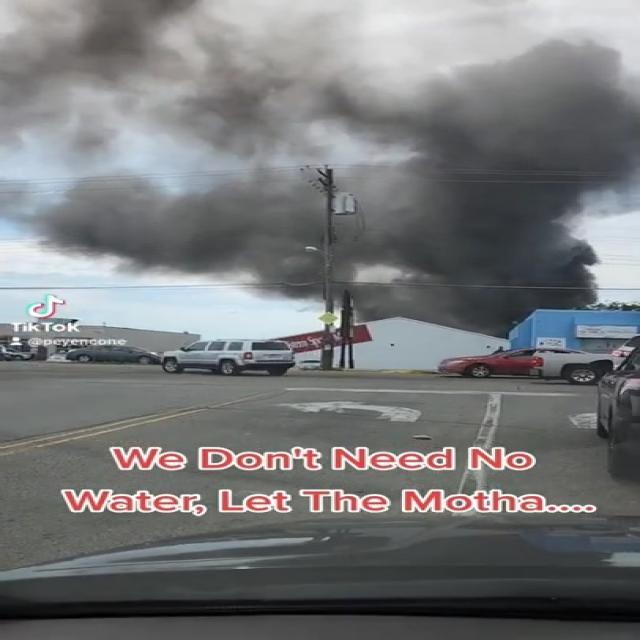Smoke: (427, 31, 588, 300)
